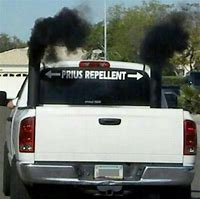smoke: (27, 6, 89, 60), (140, 10, 189, 64)
